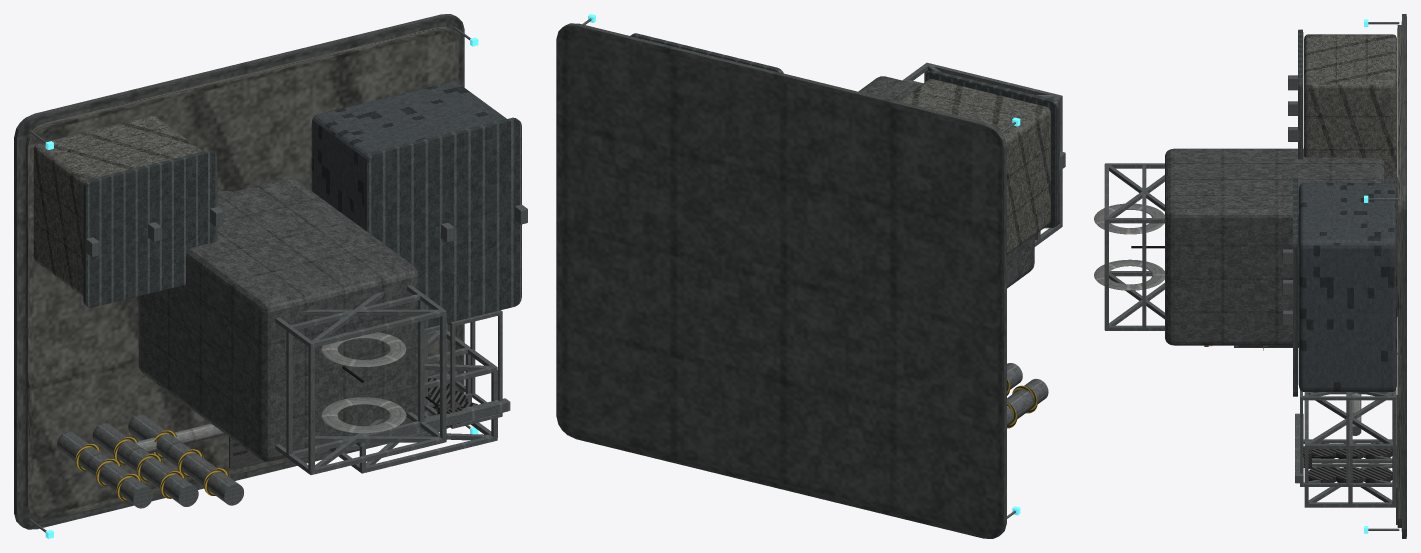
The model's file is b-52-deep-mine-lod0.glb.
3 views of the same model, side by side, from view 1: azimuth 30°, elevation 25°; view 2: azimuth 150°, elevation 25°; view 3: azimuth 270°, elevation 25° (orthographic). The views are drawn at different scales.
Parts seen in each view (by area): view 1: foundation_inner_pad, primary_deep_shaft_house, rare_material_sorting_roof, deep_winding_engine_roof, foundation, deep_winding_engine_main_hall, rare_material_sorting_main_hall, deep_exhaust_stack_2_stack, deep_exhaust_stack_1_stack, deep_exhaust_stack_0_stack, cage_hoist_wheel_-1, cage_hoist_wheel_1 (+14 smaller); view 2: foundation, deep_winding_engine_main_hall, deep_winding_engine_roof, primary_deep_shaft_house, deep_exhaust_stack_0_stack, deep_headframe_crown_beam_x_2_n, rare_material_sorting_roof; view 3: primary_deep_shaft_house, rare_material_sorting_main_hall, deep_winding_engine_main_hall, foundation, foundation_inner_pad, rare_material_sorting_roof, cage_hoist_wheel_-1, cage_hoist_wheel_1, deep_winding_engine_roof, deep_headframe_crown_beam_y_2_e, deep_headframe_crown_beam_y_1_e, rare_material_loading_column_e_s (+10 smaller).
Boxes of the visible parts, bbox=[...] form: foundation_inner_pad: bbox=[25, 27, 458, 520]; primary_deep_shaft_house: bbox=[138, 178, 418, 461]; rare_material_sorting_roof: bbox=[364, 117, 521, 328]; deep_winding_engine_roof: bbox=[83, 150, 217, 307]; foundation: bbox=[14, 14, 464, 529]; deep_winding_engine_main_hall: bbox=[33, 116, 203, 295]; rare_material_sorting_main_hall: bbox=[311, 81, 506, 229]; deep_exhaust_stack_2_stack: bbox=[128, 414, 243, 505]; deep_exhaust_stack_1_stack: bbox=[92, 422, 198, 506]; deep_exhaust_stack_0_stack: bbox=[57, 431, 153, 508]; cage_hoist_wheel_-1: bbox=[321, 397, 406, 433]; cage_hoist_wheel_1: bbox=[321, 331, 406, 367]; foundation: bbox=[556, 23, 1006, 538]; deep_winding_engine_main_hall: bbox=[899, 79, 1050, 254]; deep_winding_engine_roof: bbox=[926, 70, 1059, 227]; primary_deep_shaft_house: bbox=[858, 76, 1034, 288]; deep_exhaust_stack_0_stack: bbox=[1007, 379, 1048, 426]; deep_headframe_crown_beam_x_2_n: bbox=[928, 63, 1062, 101]; rare_material_sorting_roof: bbox=[630, 33, 783, 73]; primary_deep_shaft_house: bbox=[1165, 148, 1384, 345]; rare_material_sorting_main_hall: bbox=[1298, 183, 1396, 391]; deep_winding_engine_main_hall: bbox=[1304, 34, 1396, 177]; foundation: bbox=[1401, 14, 1406, 538]; foundation_inner_pad: bbox=[1397, 25, 1401, 527]; rare_material_sorting_roof: bbox=[1293, 178, 1297, 396]; cage_hoist_wheel_-1: bbox=[1094, 259, 1164, 290]; cage_hoist_wheel_1: bbox=[1094, 203, 1164, 234]; deep_winding_engine_roof: bbox=[1298, 29, 1303, 159]; deep_headframe_crown_beam_y_2_e: bbox=[1104, 218, 1108, 329]; deep_headframe_crown_beam_y_1_e: bbox=[1142, 218, 1146, 327]; rare_material_loading_column_e_s: bbox=[1308, 502, 1392, 507].
Size of what is drawn, in the model's own units: 17 by 15 by 12.1.
Materials: 15 (15 with a texture image).
